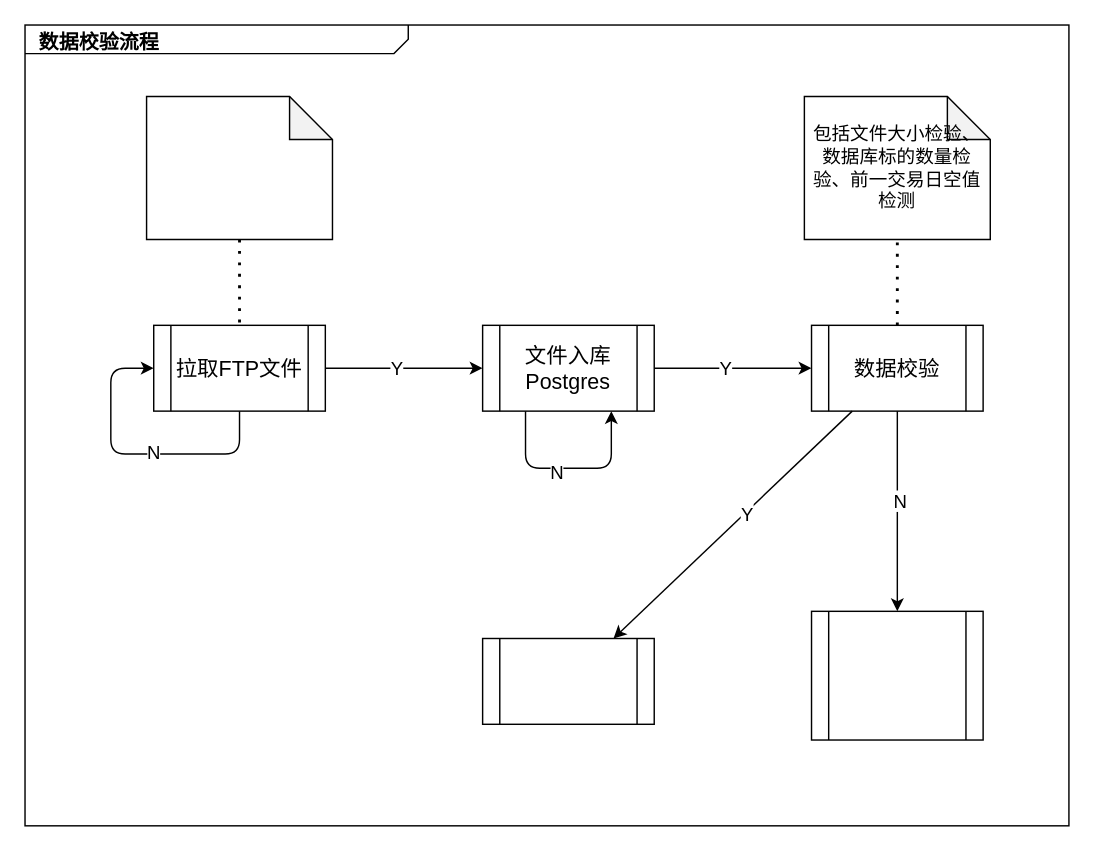
Image size: 1094x851. Some labels were removed from this diagram. The centre of each missing label's shape, as x and y in pixels:
模型训练: the point at 567,680
每天17点，18点，19点，20点的0分，15分，30分定时执行: the point at 238,167
